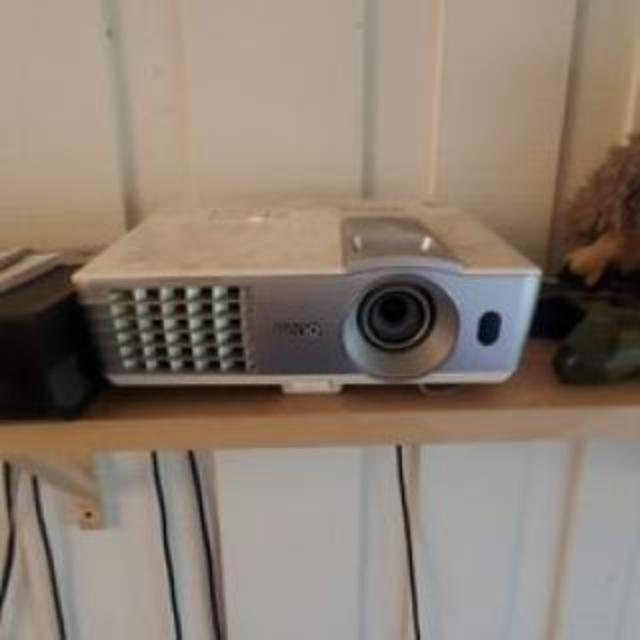Projector: (70, 198, 542, 388)
